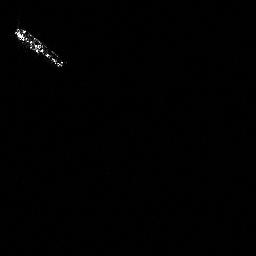ship: (11, 24, 67, 69)
